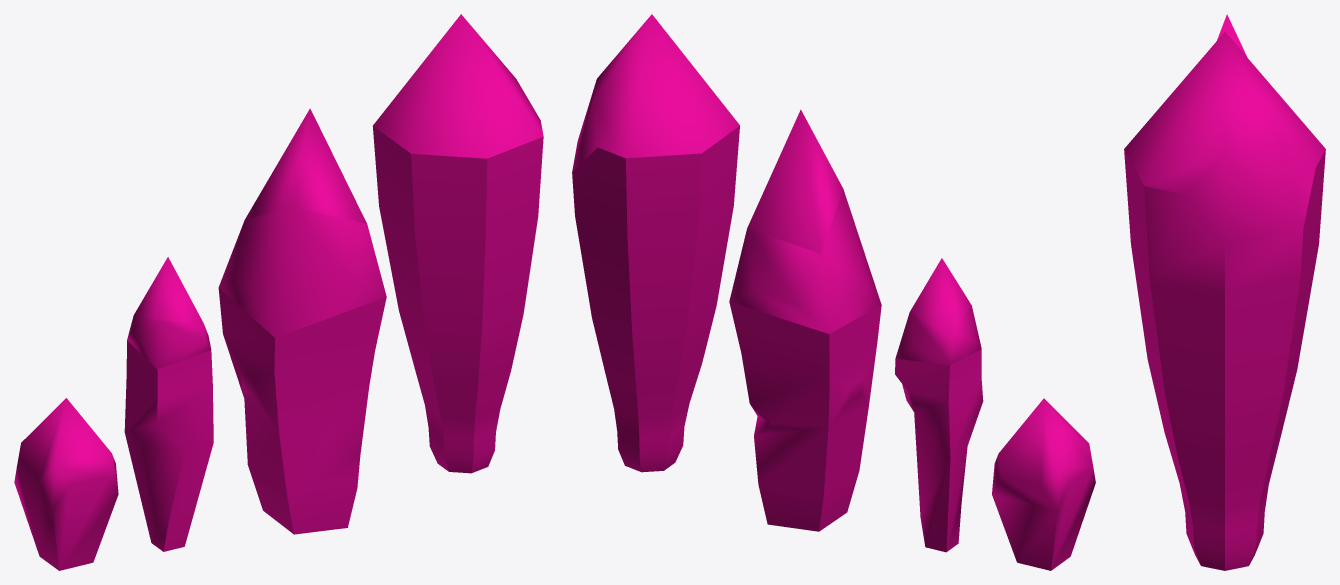
File: Crystale Base.fbx
3 views of the same model, side by side, from view 1: azimuth 30°, elevation 25°; view 2: azimuth 150°, elevation 25°; view 3: azimuth 270°, elevation 25° (orthographic). The views are drawn at different scales.
Visible parts, largest first — view 1: pCylinder18, pCube2, pCube3, pCube4; view 2: pCylinder18, pCube2, pCube3, pCube4; view 3: pCylinder18, pCube2.
Part boxes in pixels (bbox=[...]): pCylinder18: bbox=[372, 14, 543, 473]; pCube2: bbox=[218, 108, 386, 534]; pCube3: bbox=[124, 257, 213, 551]; pCube4: bbox=[14, 398, 118, 570]; pCylinder18: bbox=[572, 14, 739, 472]; pCube2: bbox=[729, 109, 881, 531]; pCube3: bbox=[895, 258, 983, 552]; pCube4: bbox=[992, 398, 1095, 570]; pCylinder18: bbox=[1124, 32, 1325, 570]; pCube2: bbox=[1217, 14, 1246, 56].
Bounding box in the file's own units: 23 × 20.42 × 6.79.
